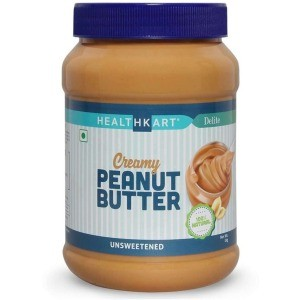peanut butter_brain food: (77, 67, 218, 250)
